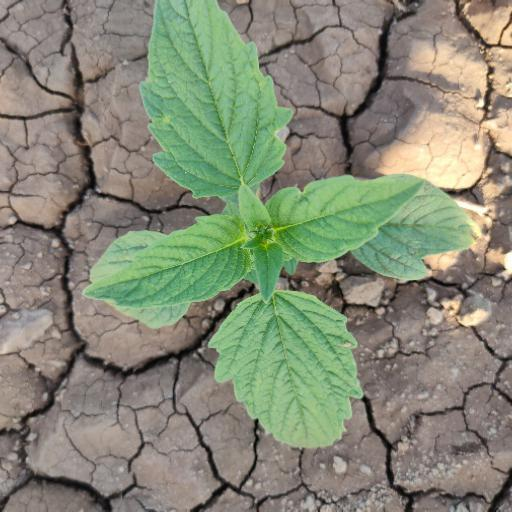crop: (74, 1, 478, 449)
